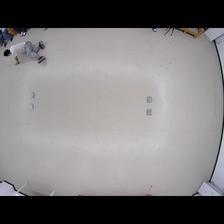fall: (3, 39, 46, 67)
